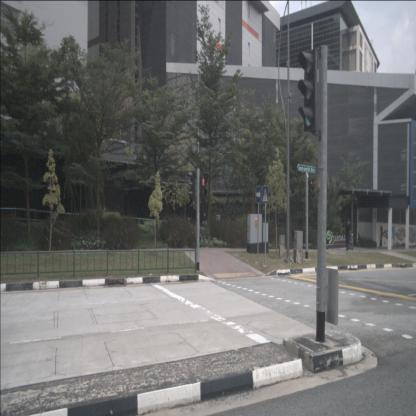human-pedestrian-adult: (346, 218, 352, 252), (202, 212, 207, 235)
